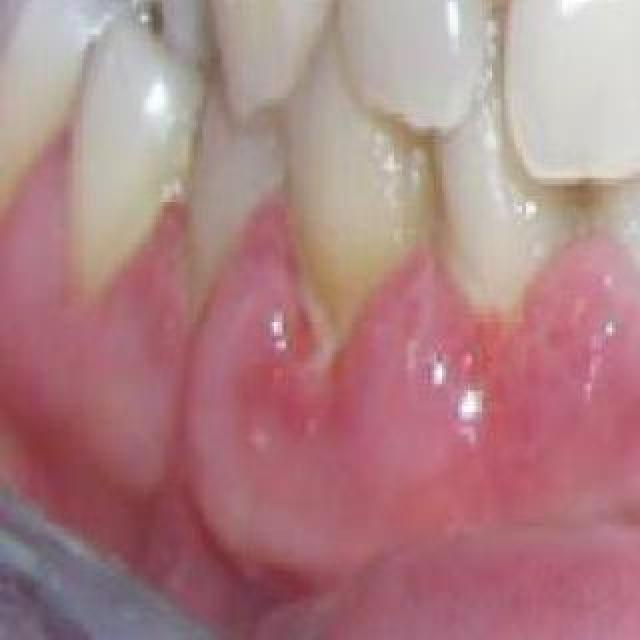calculus: (282, 196, 434, 404)
plaque: (423, 209, 589, 375)
